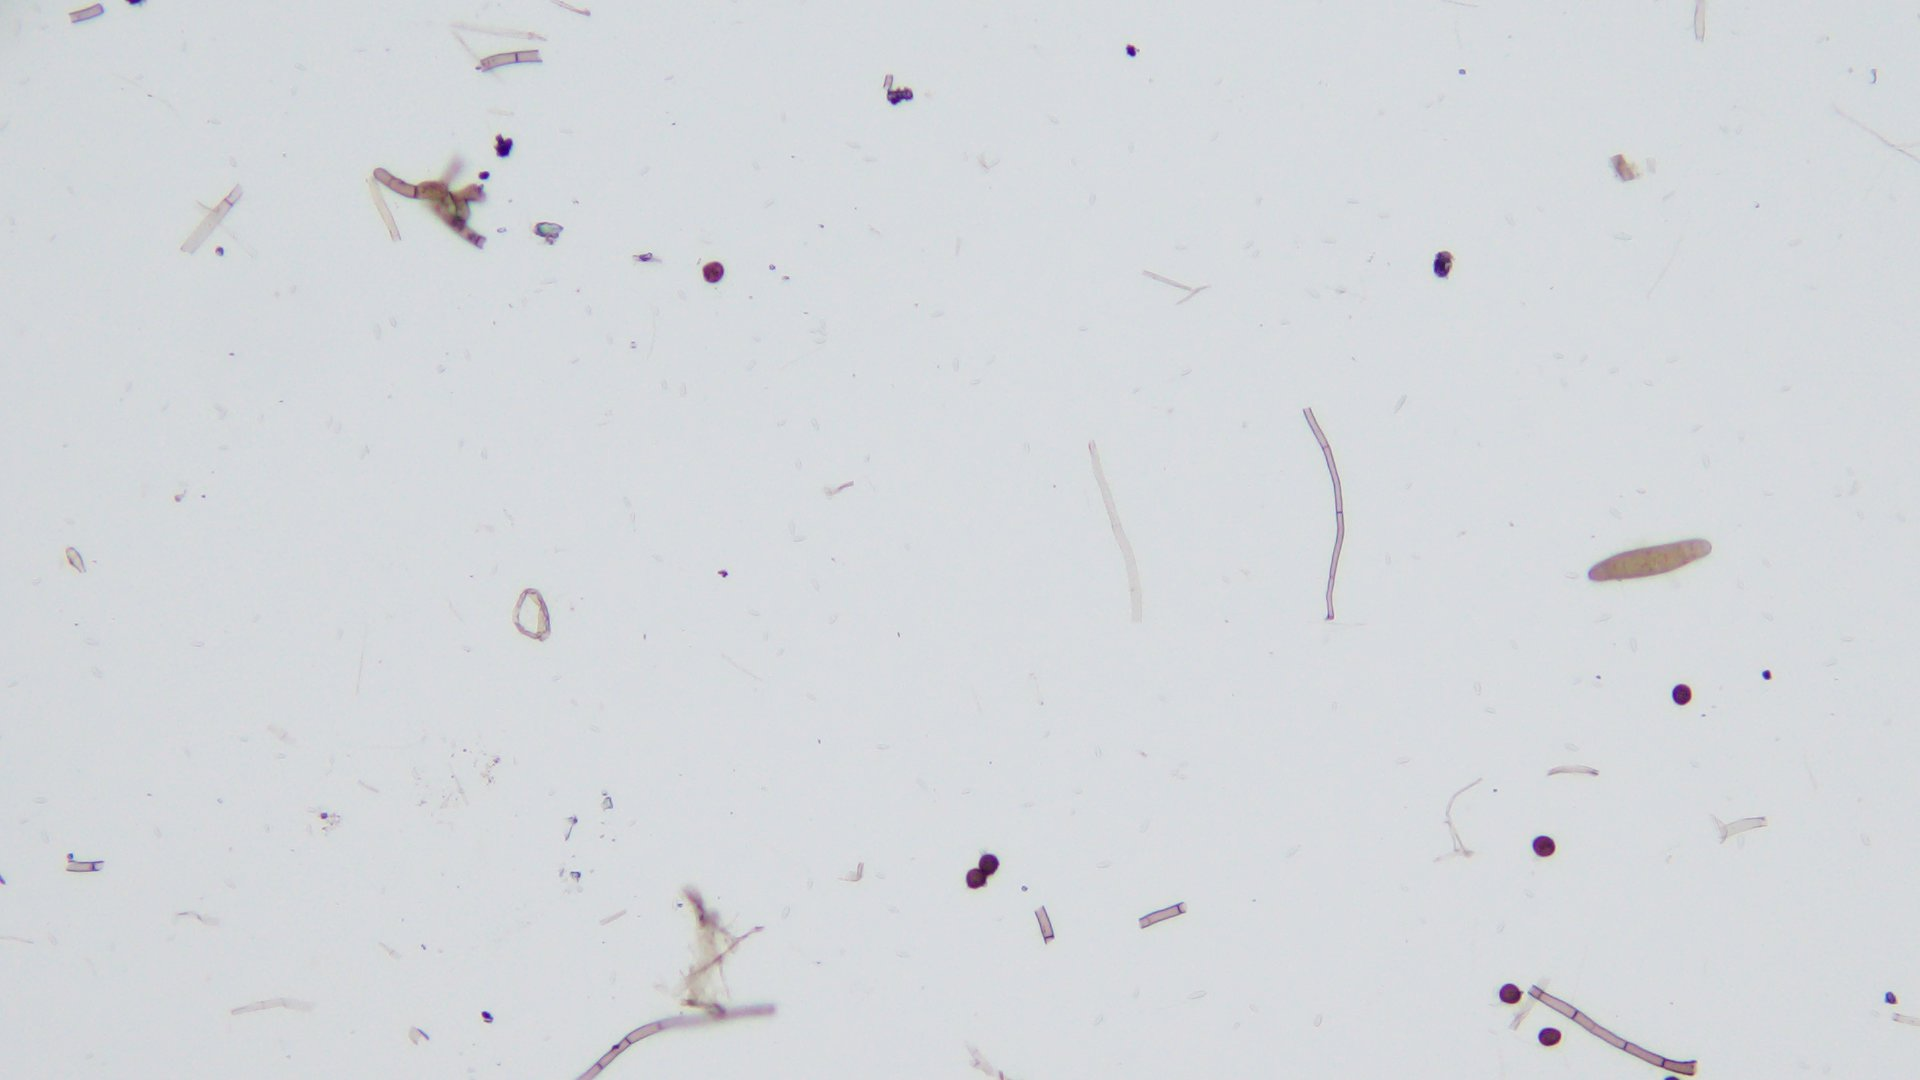dbb_spore: (1589, 538, 1712, 582)
shs_spore: (702, 261, 727, 284), (1532, 835, 1557, 856), (1498, 982, 1524, 1002), (965, 868, 988, 890), (1538, 1026, 1563, 1046), (1672, 684, 1693, 705), (977, 855, 1000, 874)
